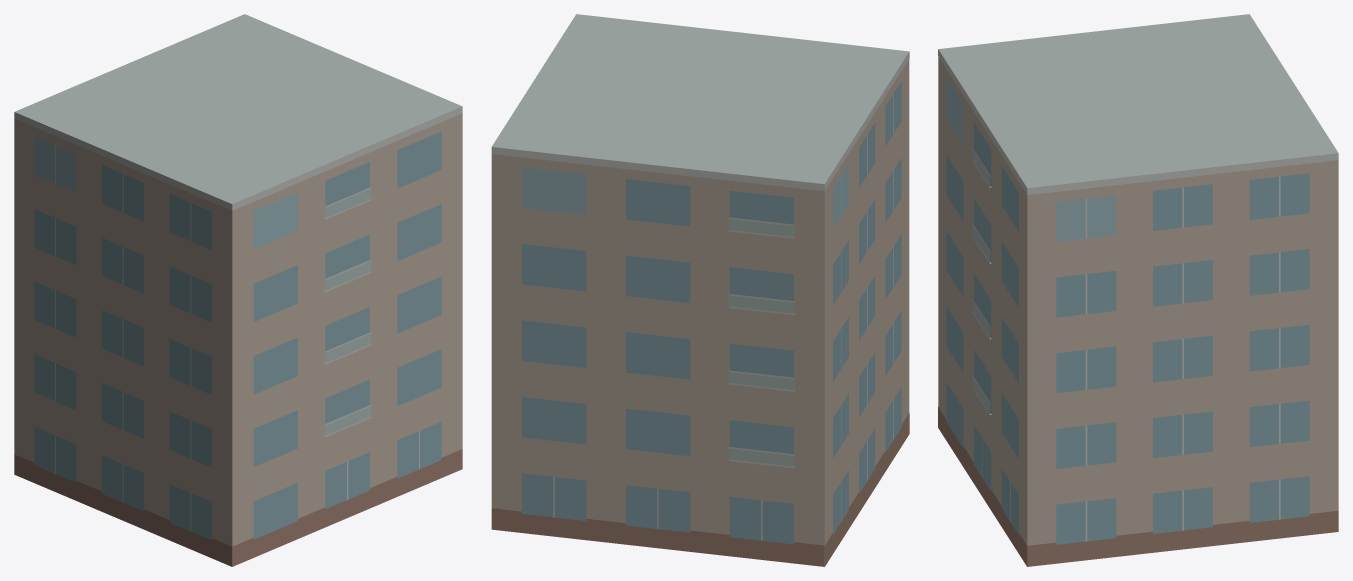
The model's file is survey-upis-32600169.glb.
3 views of the same model, side by side, from view 1: azimuth 30°, elevation 25°; view 2: azimuth 150°, elevation 25°; view 3: azimuth 270°, elevation 25° (orthographic). The views are drawn at different scales.
Visible parts, largest first — view 1: survey-upis-32600169.tmp; view 2: survey-upis-32600169.tmp; view 3: survey-upis-32600169.tmp.
Boxes of the visible parts, x1=… form: survey-upis-32600169.tmp: x1=14, y1=14, x2=462, y2=566; survey-upis-32600169.tmp: x1=491, y1=14, x2=909, y2=566; survey-upis-32600169.tmp: x1=938, y1=14, x2=1338, y2=566.
Bounding box in the file's own units: 13.08 × 13.25 × 12.71.
